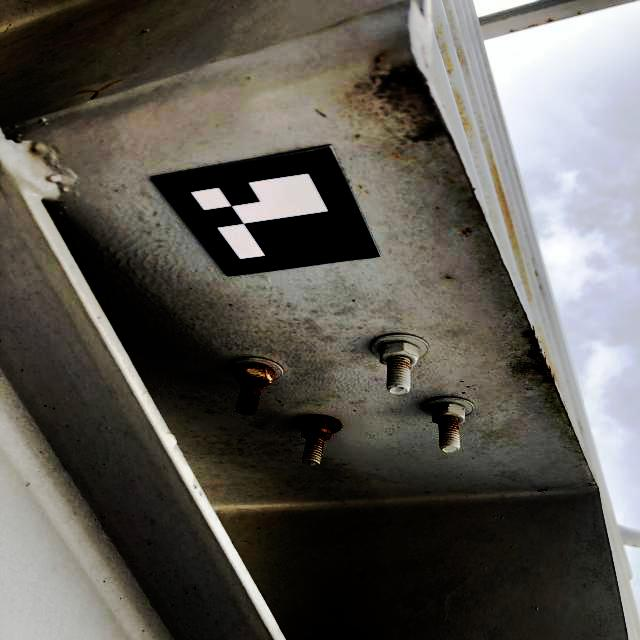Corrosion: (294, 414, 342, 465), (235, 363, 275, 416), (430, 403, 459, 446), (386, 355, 411, 388)
